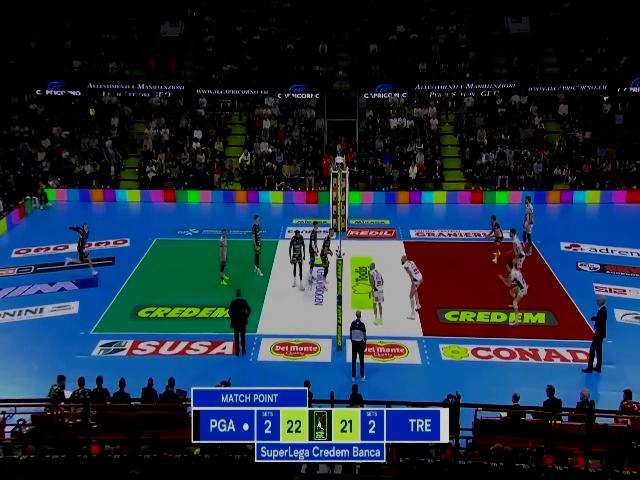volleyball court: (89, 237, 610, 342)
